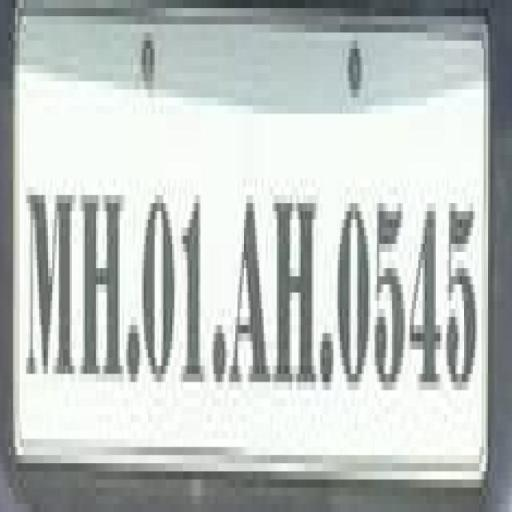number plate: (4, 0, 490, 488)
